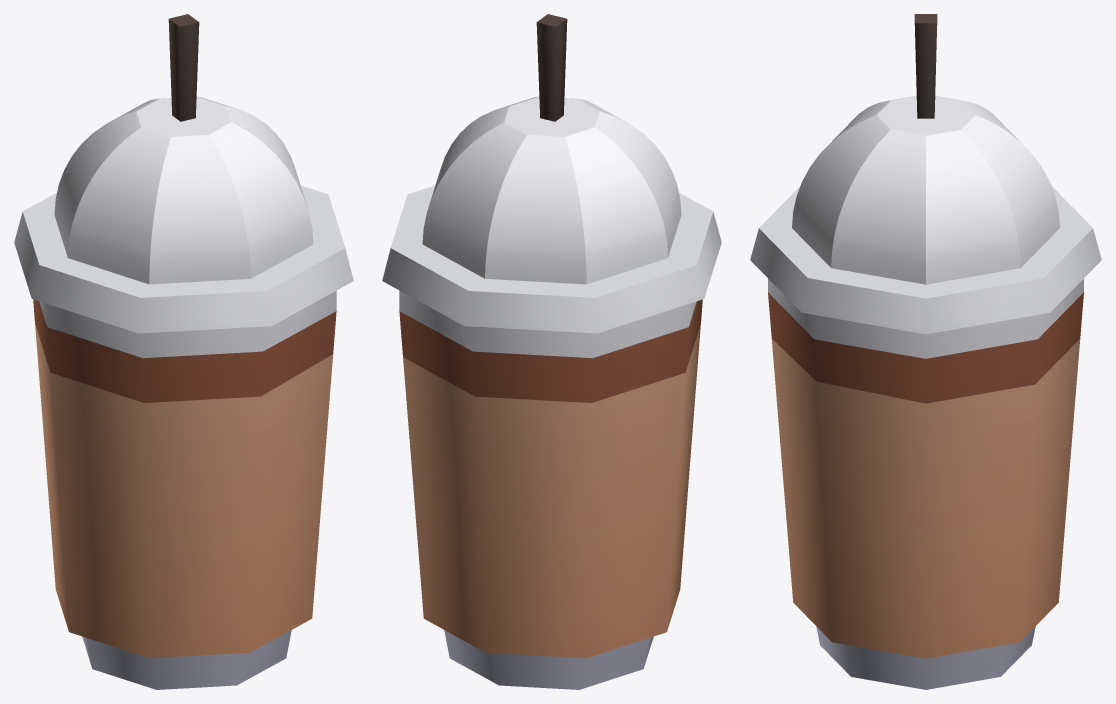
The model's file is cold-brew.glb.
The picture shows the model from 3 angles, left to right: view 1: azimuth 30°, elevation 25°; view 2: azimuth 150°, elevation 25°; view 3: azimuth 270°, elevation 25°; orthographic projection.
Parts seen in each view (by area): view 1: dish; view 2: dish; view 3: dish.
Boxes of the visible parts, bbox=[...] form: dish: bbox=[14, 14, 353, 689]; dish: bbox=[382, 14, 721, 689]; dish: bbox=[750, 14, 1101, 689].
Bounding box in the file's own units: 0.086 × 0.169 × 0.086.
Materials: 1 (1 with a texture image).
